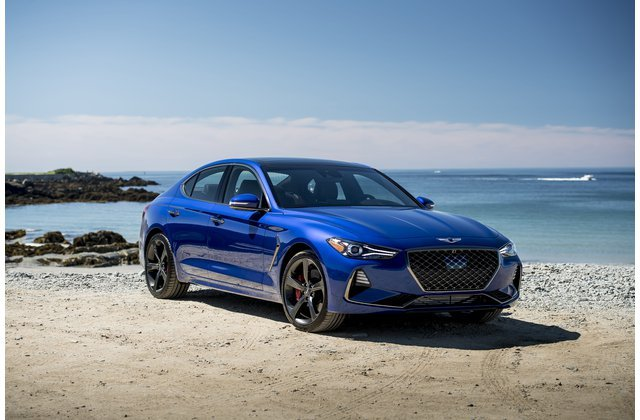car: (137, 154, 524, 328)
